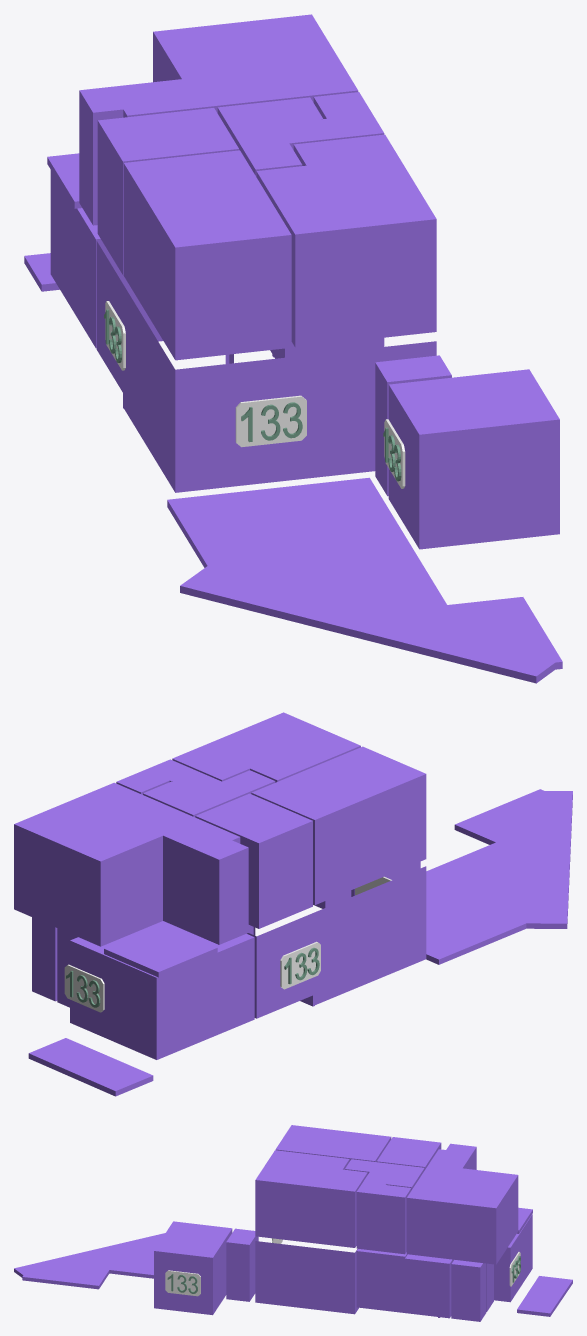
3 views of the same model, one above another, from view 1: azimuth 30°, elevation 25°; view 2: azimuth 150°, elevation 25°; view 3: azimuth 270°, elevation 25° (orthographic). The views are drawn at different scales.
Parts seen in each view (by area): view 1: g_12, g_1, g_7, g_6, g_5, g_11, g_9, g_0, g_8, g_4, g_30, g_10 (+3 smaller); view 2: g_11, g_12, g_7, g_0, g_1, g_9, g_6, g_13, g_14, g_8, g_3, g_10 (+3 smaller); view 3: g_11, g_6, g_1, g_2, g_5, g_12, g_10, g_7, g_3, g_4, g_0, g_13 (+3 smaller).
Boxes of the visible parts, x1,y1,x2,y2 form: g_12: [167, 477, 562, 683]; g_1: [96, 241, 436, 492]; g_7: [123, 150, 291, 360]; g_6: [256, 134, 436, 347]; g_5: [388, 369, 559, 549]; g_11: [79, 14, 358, 225]; g_9: [97, 108, 239, 274]; g_0: [50, 170, 163, 348]; g_8: [217, 97, 331, 176]; g_4: [375, 355, 451, 496]; g_30: [235, 395, 306, 447]; g_10: [313, 92, 384, 140]; g_11: [14, 782, 248, 946]; g_12: [426, 789, 572, 964]; g_7: [251, 746, 426, 904]; g_0: [70, 921, 254, 1059]; g_1: [247, 866, 426, 1018]; g_9: [195, 793, 312, 928]; g_6: [172, 712, 360, 782]; g_13: [28, 1038, 153, 1096]; g_14: [104, 924, 217, 977]; g_8: [143, 770, 275, 817]; g_3: [32, 917, 57, 1001]; g_10: [116, 759, 198, 794]; g_11: [406, 1143, 518, 1264]; g_6: [255, 1150, 367, 1247]; g_1: [255, 1241, 358, 1314]; g_2: [356, 1249, 493, 1318]; g_5: [154, 1221, 232, 1315]; g_12: [14, 1233, 165, 1289]; g_10: [356, 1181, 411, 1254]; g_7: [275, 1125, 391, 1161]; g_3: [451, 1260, 486, 1321]; g_4: [226, 1228, 258, 1301]; g_0: [494, 1214, 532, 1302]; g_13: [517, 1276, 572, 1316].
Bounding box in the file's own units: 9.56 × 5.35 × 21.41.
